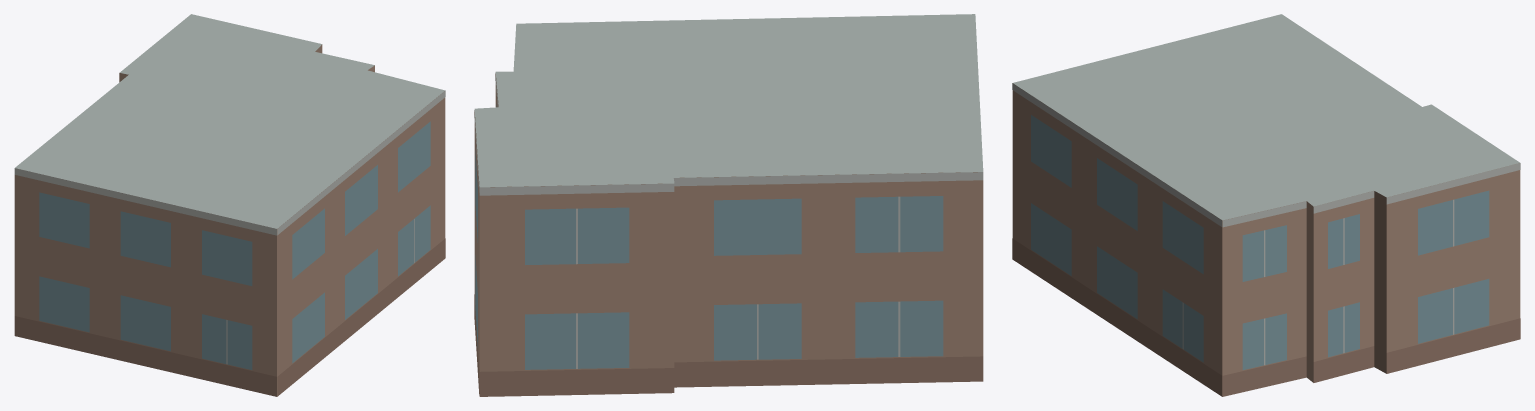
Rendered from survey-upis-32675952.glb.
The picture shows the model from 3 angles, left to right: view 1: azimuth 30°, elevation 25°; view 2: azimuth 150°, elevation 25°; view 3: azimuth 270°, elevation 25°; orthographic projection. The views are drawn at different scales.
Parts seen in each view (by area): view 1: survey-upis-32675952.tmp; view 2: survey-upis-32675952.tmp; view 3: survey-upis-32675952.tmp.
Part boxes in pixels (x1,y1,x2,y2): survey-upis-32675952.tmp: [14, 14, 445, 396]; survey-upis-32675952.tmp: [474, 14, 983, 396]; survey-upis-32675952.tmp: [1012, 14, 1520, 396].
Bounding box in the file's own units: 15.31 × 6.1 × 15.92.
